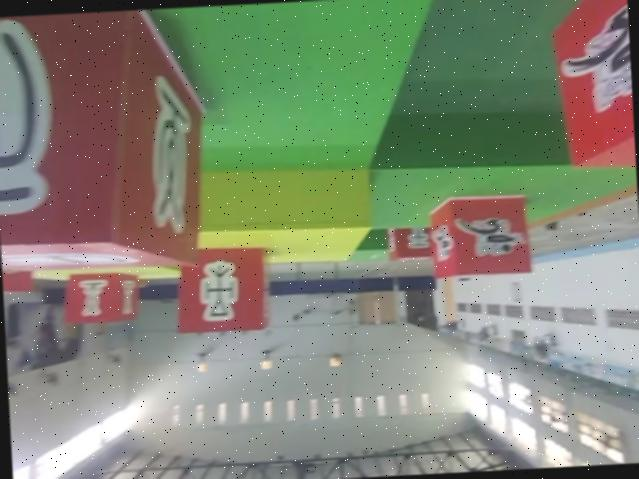R1: (544, 0, 636, 175), (428, 191, 535, 284)
R2 Fake: (0, 6, 209, 279)
R2 Real: (170, 242, 269, 338), (61, 270, 140, 328)
